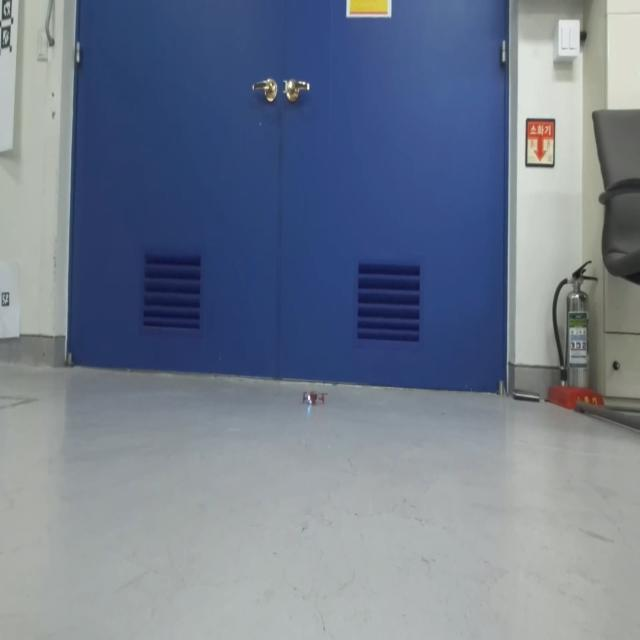crazyflie: (300, 385, 326, 413)
